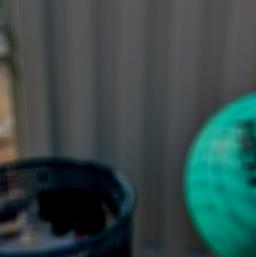algae: (184, 90, 256, 257)
